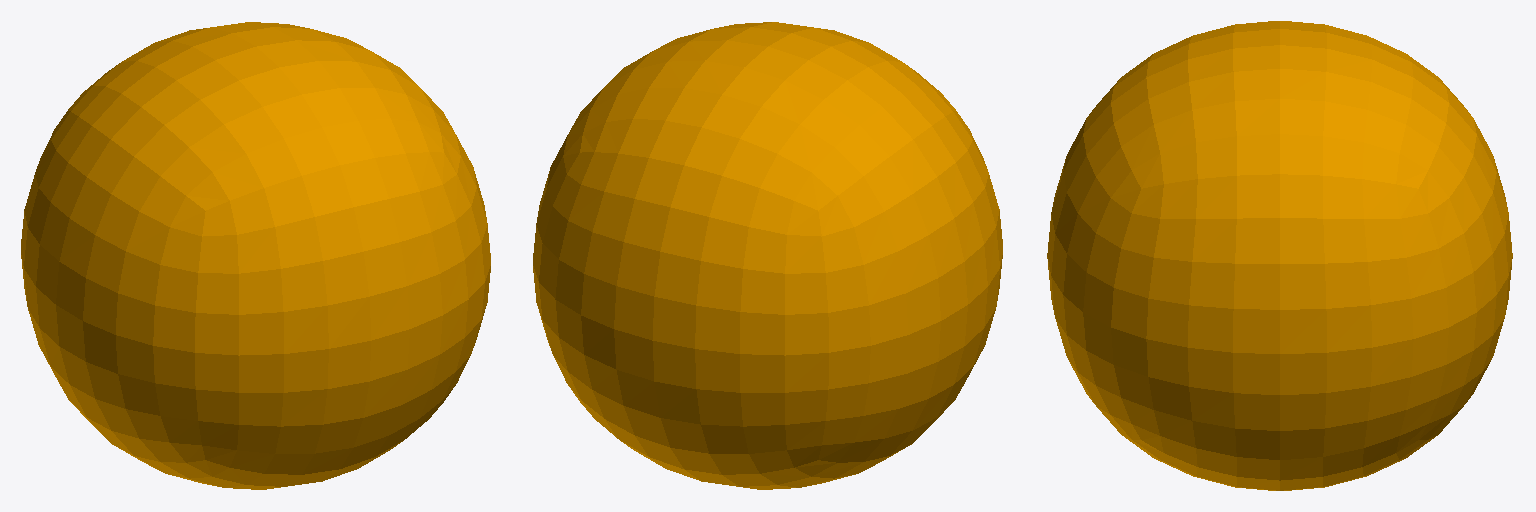
URDF robot description (orange_right):
<?xml version="1.0"?>
<robot name="orange_right">
  <link name="body">
    <visual>
      <origin xyz="0 0 0" rpy="1.57079632679 0 0"/>
      <geometry>
        <mesh filename="../meshes/orange/orange_right.obj" scale="1 1 1"/>
      </geometry>
    </visual>
    <collision>
      <origin xyz="0 0 0" rpy="1.57079632679 0 0"/>
      <geometry>
        <mesh filename="../meshes/orange/orange_right.obj" scale="1 1 1"/>
      </geometry>
    </collision>
    <inertial>
      <mass value="1.0"/>
      <inertia ixx="0.01" ixy="0.0" ixz="0.0"
              iyy="0.01" iyz="0.0" izz="0.01"/>
    </inertial>
  </link>
</robot>

--- What the picture shows (computed from the rendered views, not written in the file) ---
The picture shows the robot from 3 angles, left to right: view 1: azimuth 30°, elevation 25°; view 2: azimuth 150°, elevation 25°; view 3: azimuth 270°, elevation 25°; orthographic projection.
Robot: orange_right — 1 links, 0 joints (none); root link body; default pose: every joint at zero.
Links seen in each view (by area): view 1: body; view 2: body; view 3: body.
Boxes of the visible links, box(x1,y1,x2,y2) form: body: box(21, 22, 490, 489); body: box(533, 22, 1002, 489); body: box(1047, 21, 1512, 490).
Size in the robot's own frame: 0.171 by 0.171 by 0.171 metres.
Meshes: 1 distinct files referenced, 1 mesh visuals loaded (1 OBJ).
